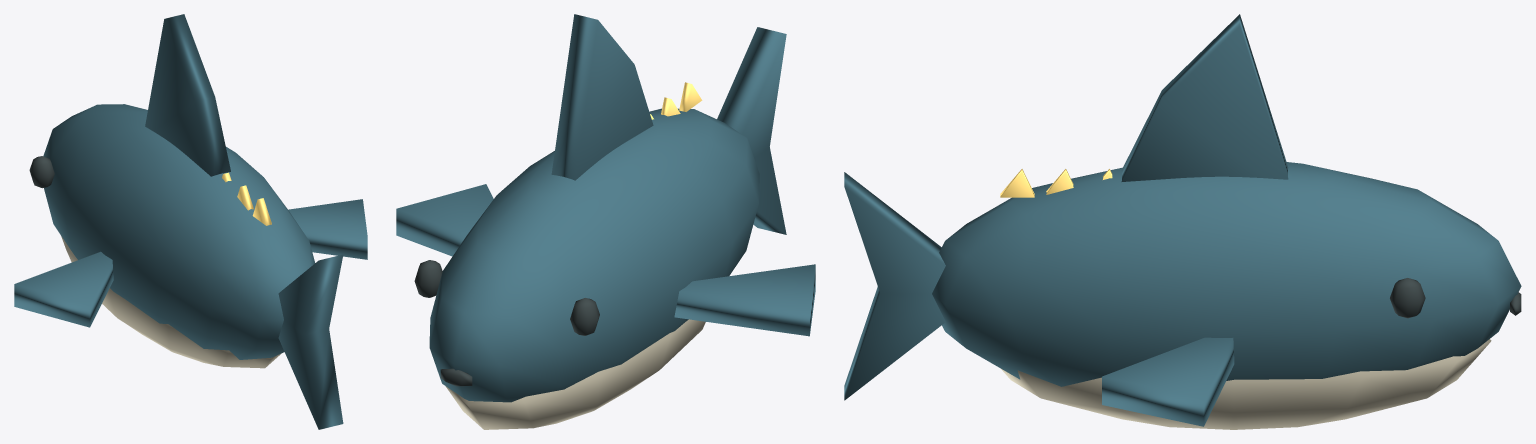
Rendered from fish_giant_tuna.glb.
3 renders of one model, left to right at view 1: azimuth 30°, elevation 25°; view 2: azimuth 150°, elevation 25°; view 3: azimuth 270°, elevation 25°, orthographic. The views are drawn at different scales.
Bounding box in the file's own units: 0.9 × 0.7805 × 1.2.
